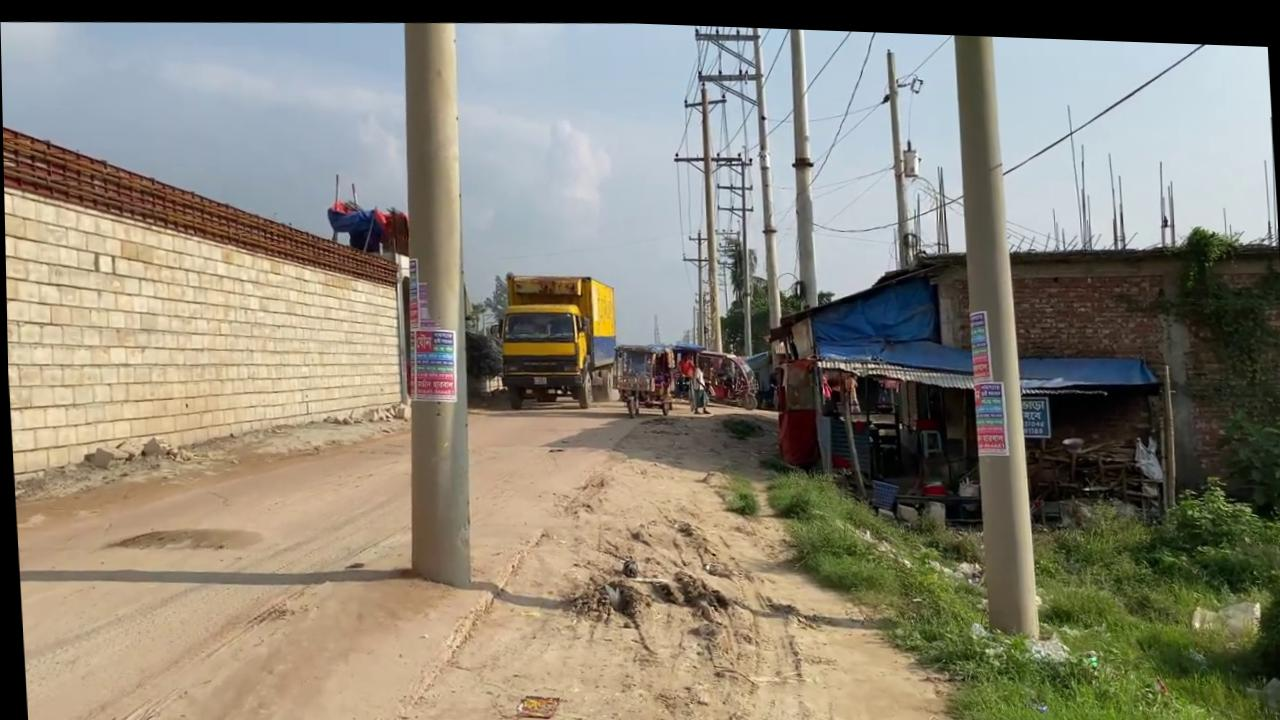Muddy road: (7, 354, 982, 720)
Pole: (380, 18, 484, 585), (949, 28, 1037, 635), (782, 23, 819, 304), (749, 22, 781, 327), (693, 73, 724, 347), (883, 41, 910, 262)
Pothole: (100, 519, 262, 556)
Tree: (490, 264, 619, 409)
